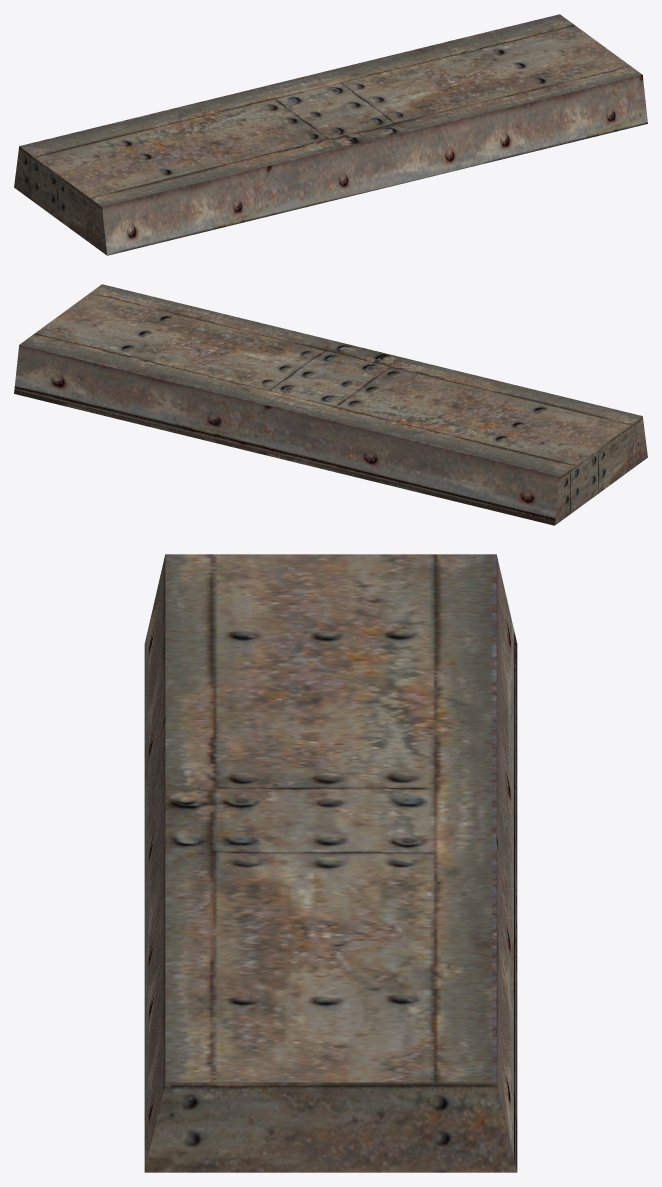
Rendered from LampBoxA.FBX.
3 views of the same model, one above another, from view 1: azimuth 30°, elevation 25°; view 2: azimuth 150°, elevation 25°; view 3: azimuth 270°, elevation 25° (orthographic). The views are drawn at different scales.
Parts seen in each view (by area): view 1: LampBoxA; view 2: LampBoxA; view 3: LampBoxA.
Part boxes in pixels (left/top/right/bottom): LampBoxA: left=14, top=14, right=647, bottom=255; LampBoxA: left=14, top=284, right=647, bottom=525; LampBoxA: left=144, top=554, right=517, bottom=1172.
Bounding box in the file's own units: 150 × 12 × 44.86.
2 materials, 2 textured.
